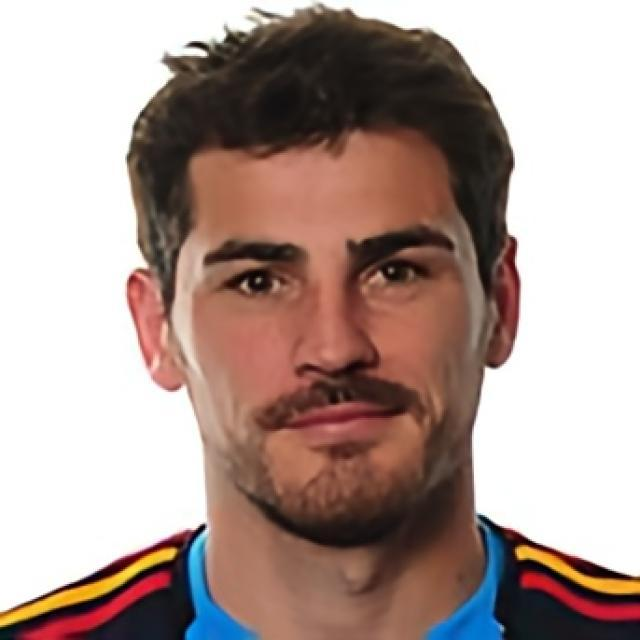content: (174, 127, 484, 534)
